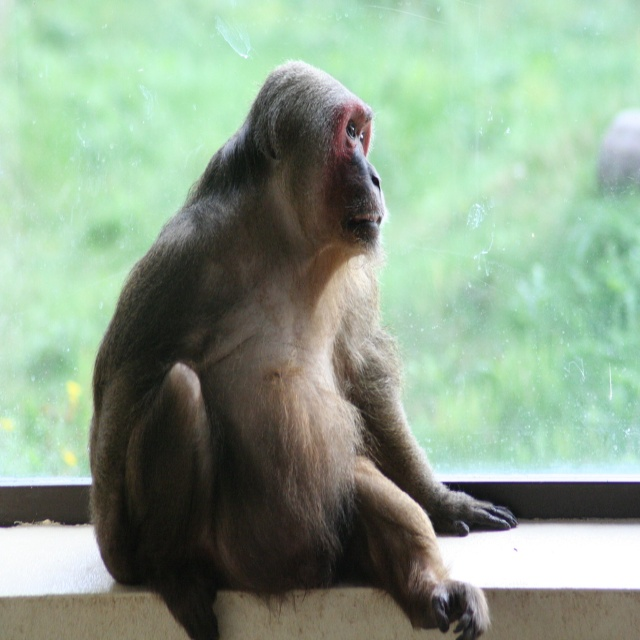Monkey: (86, 57, 518, 640)
